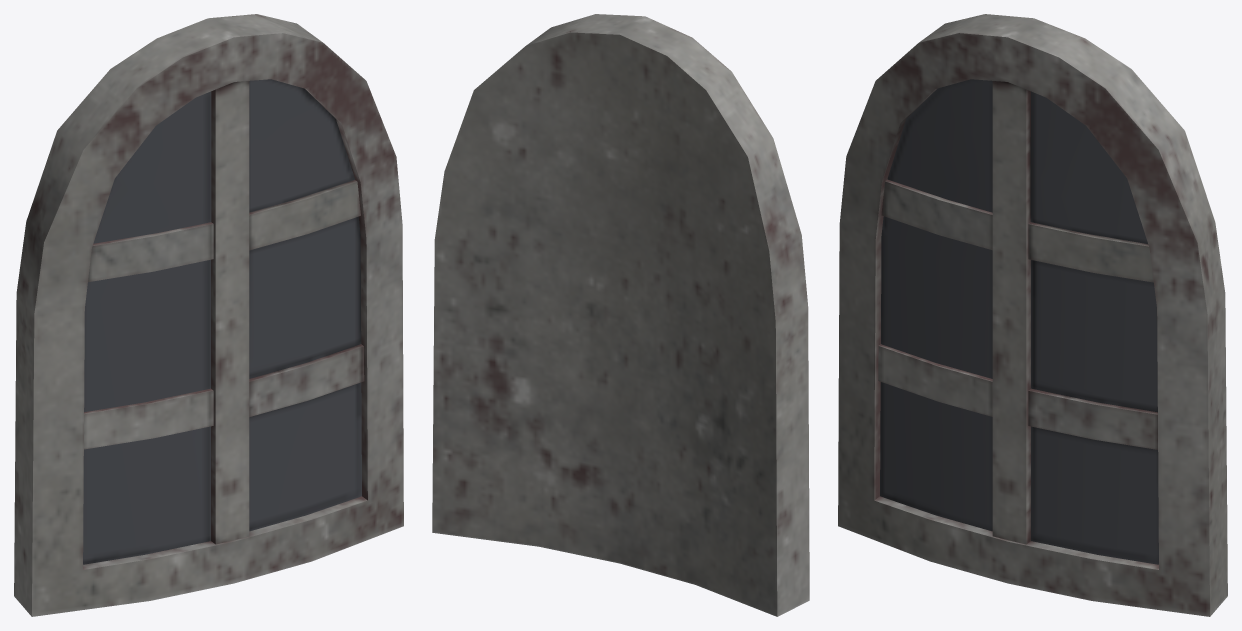
Rendered from sb_obj_outdoor001_Castle01_window01.fbx.
3 renders of one model, left to right at view 1: azimuth 30°, elevation 25°; view 2: azimuth 150°, elevation 25°; view 3: azimuth 330°, elevation 25°, orthographic. The views are drawn at different scales.
Visible parts, largest first — view 1: sb_obj_outdoor001_Castle01_window01; view 2: sb_obj_outdoor001_Castle01_window01; view 3: sb_obj_outdoor001_Castle01_window01.
Part boxes in pixels (box(x1,y1,x2,y2)): sb_obj_outdoor001_Castle01_window01: box(14, 14, 403, 616); sb_obj_outdoor001_Castle01_window01: box(432, 14, 809, 616); sb_obj_outdoor001_Castle01_window01: box(838, 14, 1227, 616).
Size of the model in its own units: 1.11 by 1.56 by 0.2166.
